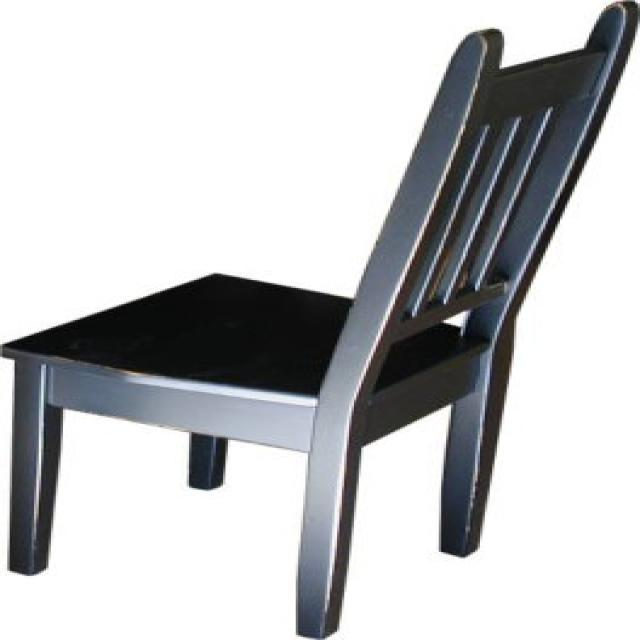chair: (0, 0, 637, 638)
